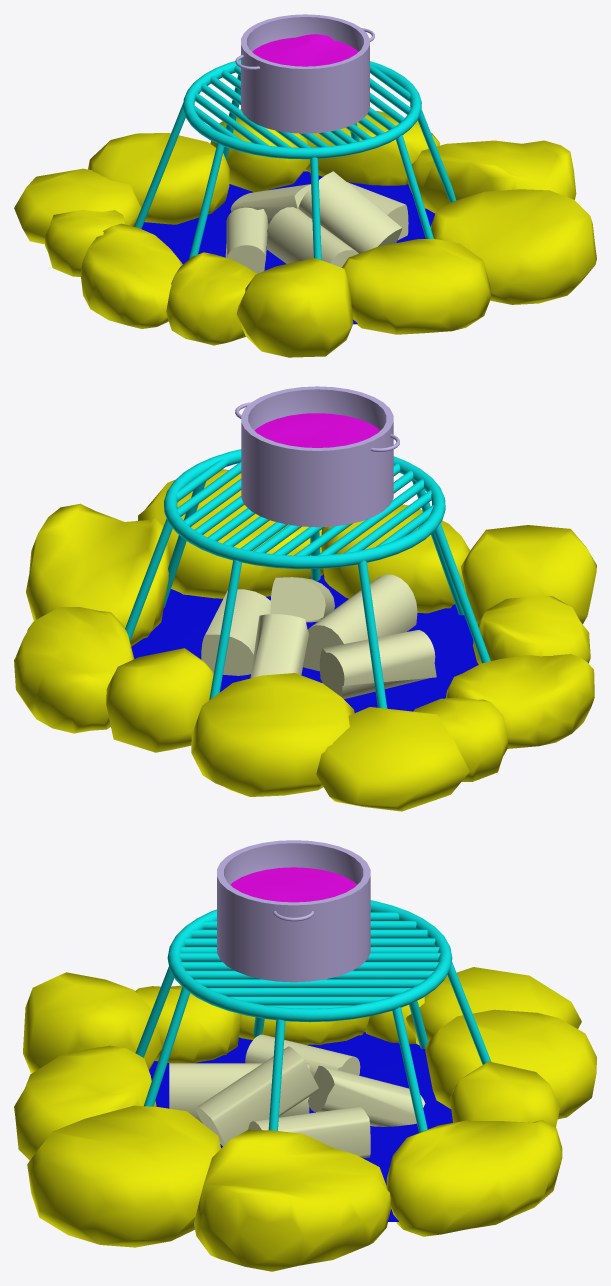
The model's file is Fire_camp_food_little.fbx.
3 views of the same model, one above another, from view 1: azimuth 30°, elevation 25°; view 2: azimuth 150°, elevation 25°; view 3: azimuth 270°, elevation 25° (orthographic). The views are drawn at different scales.
Parts seen in each view (by area): view 1: bolder36, pTorus2, pCylinder32, pCylinder56, pCube38, pCube39; view 2: bolder36, pTorus2, pCylinder32, pCylinder56, pCube38, pCube39; view 3: bolder36, pTorus2, pCylinder32, pCylinder56, pCube38, pCube39.
Boxes of the visible parts, x1,y1,x2,y2 form: bolder36: [14, 109, 596, 357]; pTorus2: [134, 59, 456, 260]; pCylinder32: [225, 171, 408, 273]; pCylinder56: [235, 14, 374, 133]; pCube38: [141, 171, 434, 324]; pCube39: [252, 34, 358, 66]; bolder36: [14, 469, 596, 811]; pTorus2: [125, 449, 490, 708]; pCylinder32: [201, 574, 436, 699]; pCylinder56: [235, 386, 399, 527]; pCube38: [131, 574, 478, 712]; pCube39: [254, 413, 380, 447]; bolder36: [14, 967, 596, 1271]; pTorus2: [135, 900, 491, 1132]; pCylinder32: [169, 1034, 425, 1158]; pCylinder56: [217, 840, 370, 982]; pCube38: [149, 1031, 452, 1221]; pCube39: [230, 867, 356, 902].
Size of the model in its own units: 1.55 by 0.706 by 1.41.
